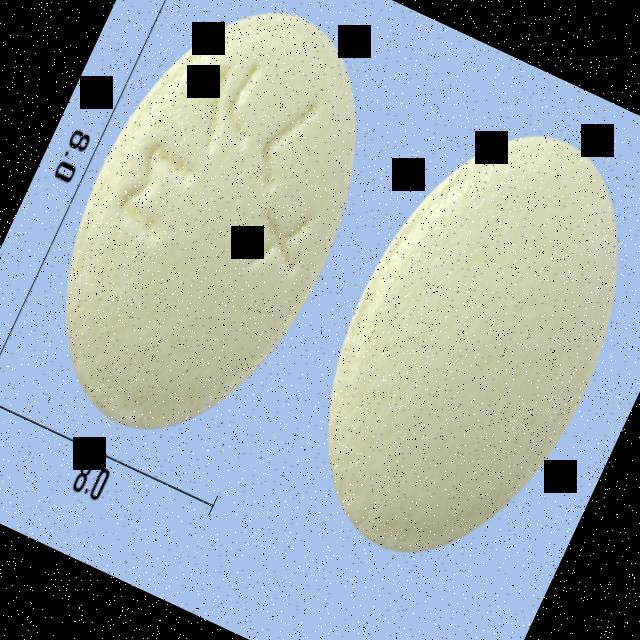Lerocin: (6, 0, 419, 473)
